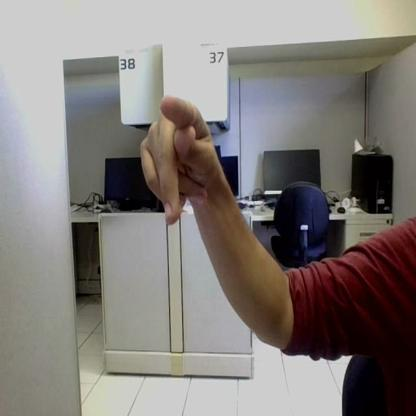P: (140, 97, 213, 225)
